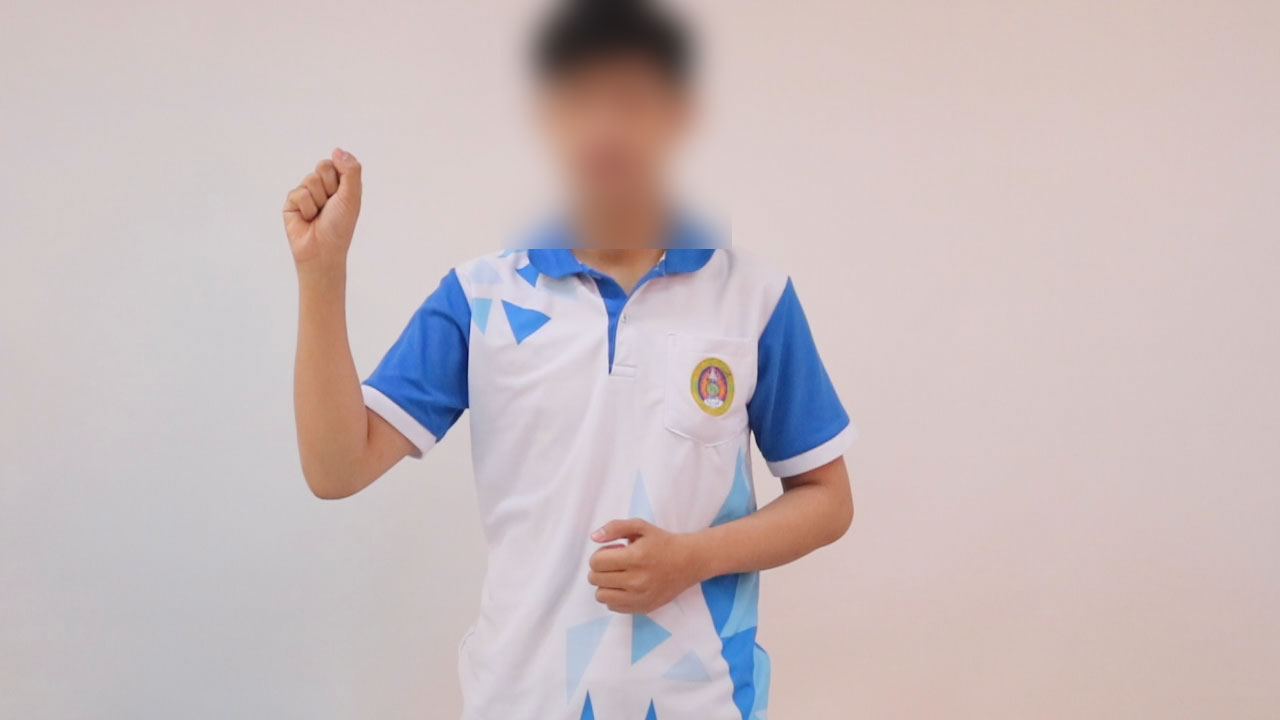sor: (270, 133, 386, 284)
